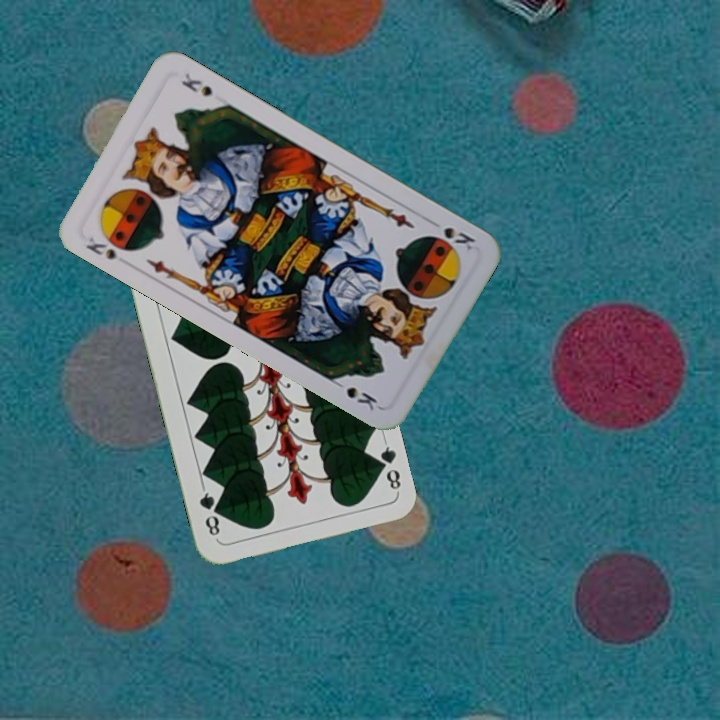G8: (371, 436, 404, 495)
SK: (425, 223, 478, 253), (81, 232, 119, 263)
